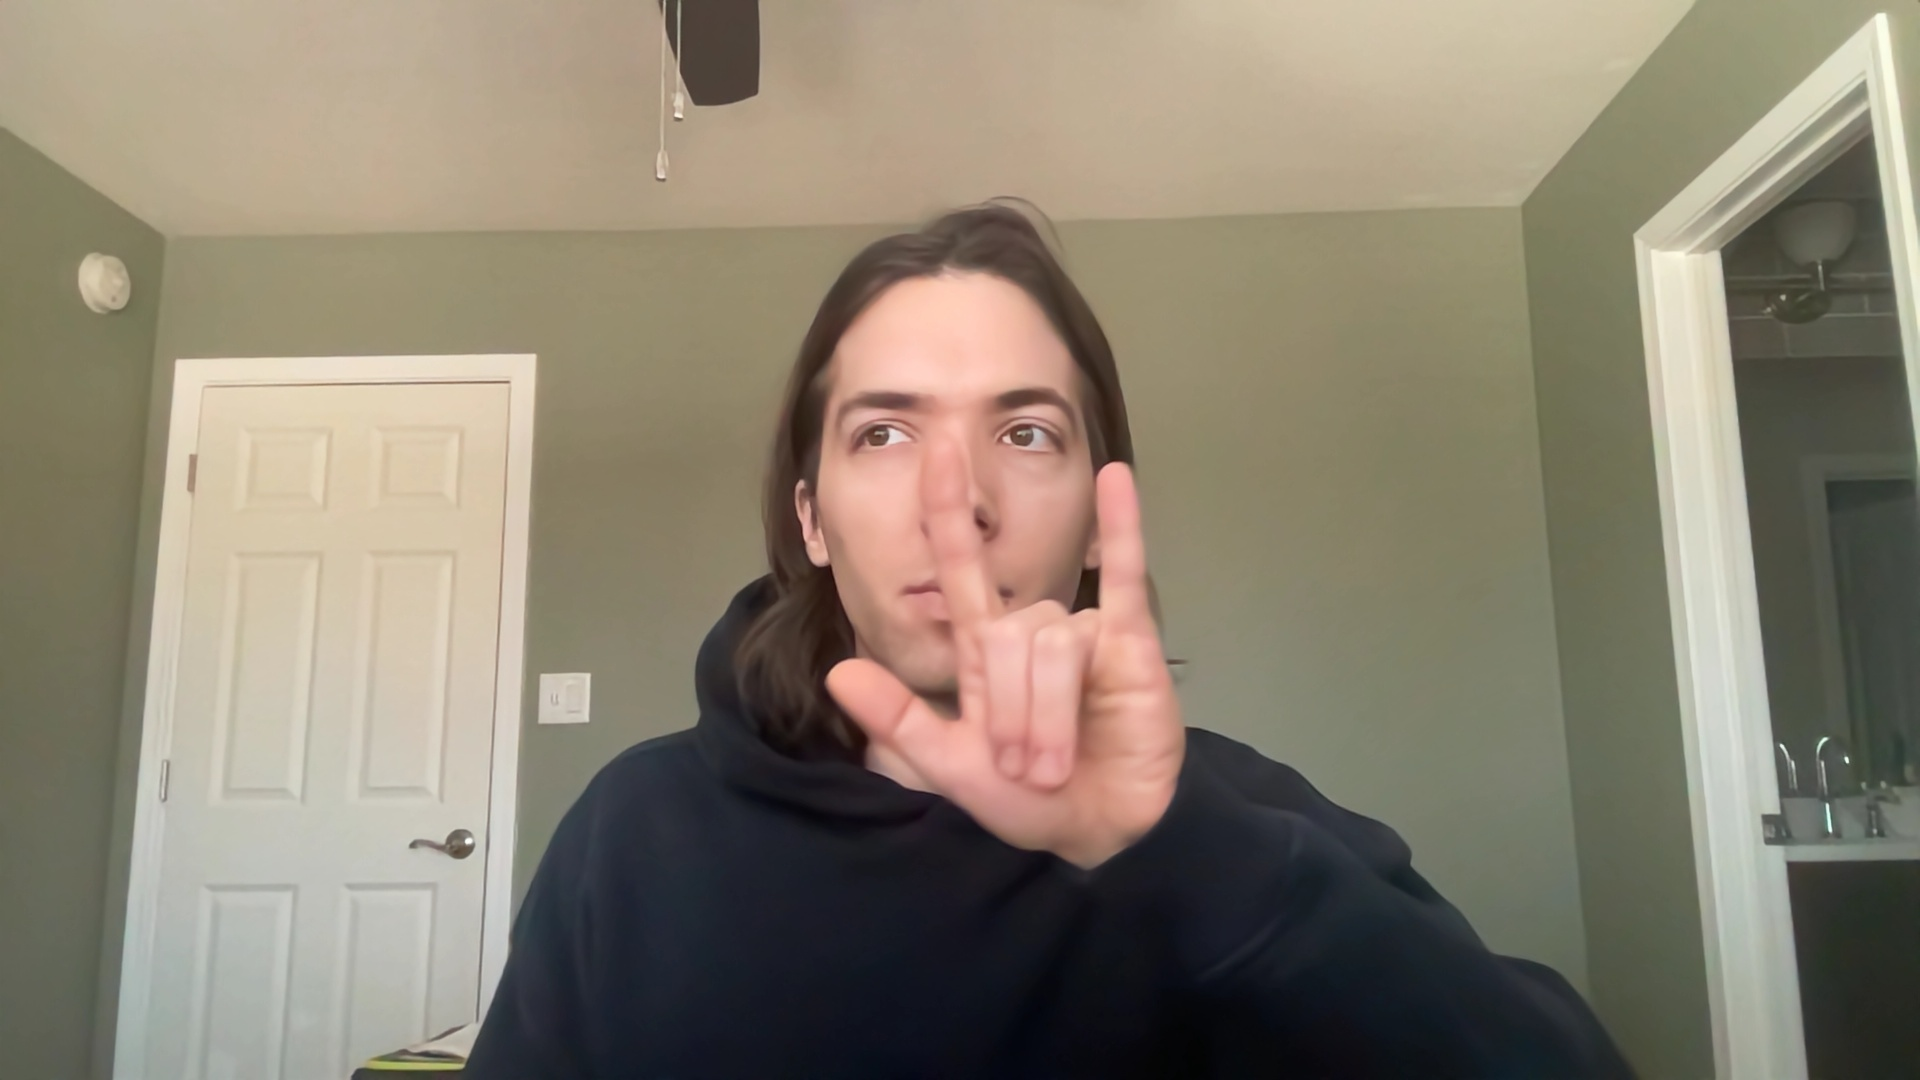I Love You: (798, 421, 1211, 899)
